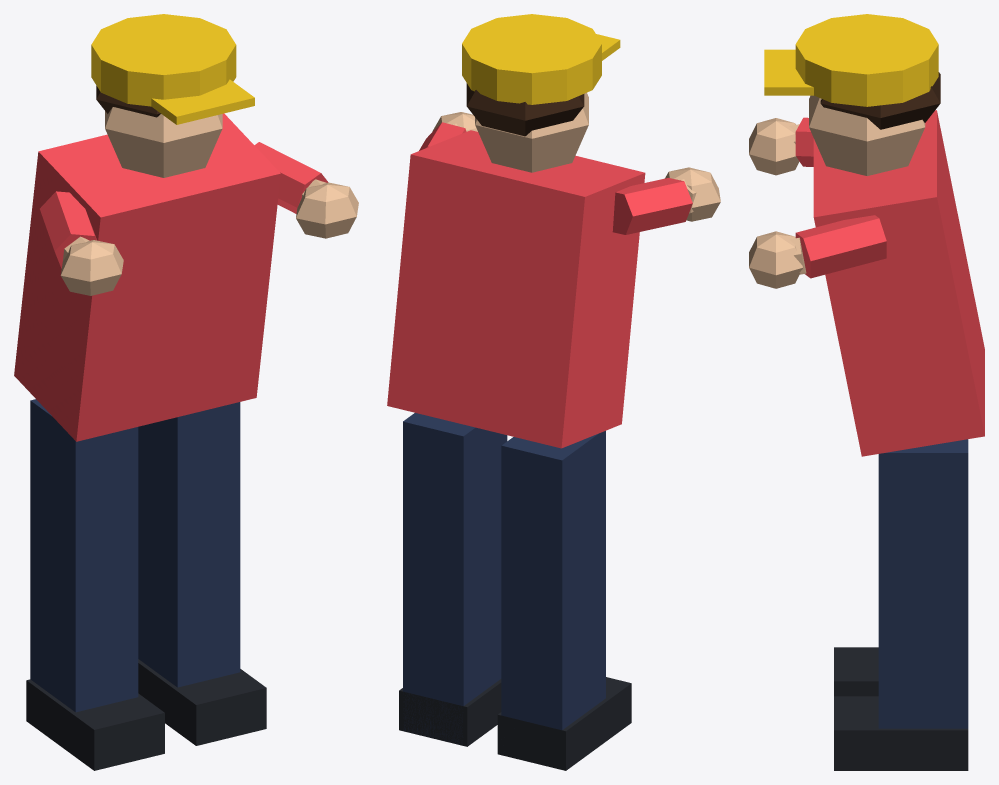
Rendered from shopper-player.glb.
3 views of the same model, side by side, from view 1: azimuth 30°, elevation 25°; view 2: azimuth 150°, elevation 25°; view 3: azimuth 270°, elevation 25° (orthographic). The views are drawn at different scales.
Visible parts, largest first — view 1: shopper-player; view 2: shopper-player; view 3: shopper-player.
Part boxes in pixels (box(x1,y1,x2,y2)): shopper-player: box(14, 14, 358, 770); shopper-player: box(387, 14, 720, 770); shopper-player: box(749, 14, 984, 770).
Bounding box in the file's own units: 0.761 × 1.69 × 0.5276.
